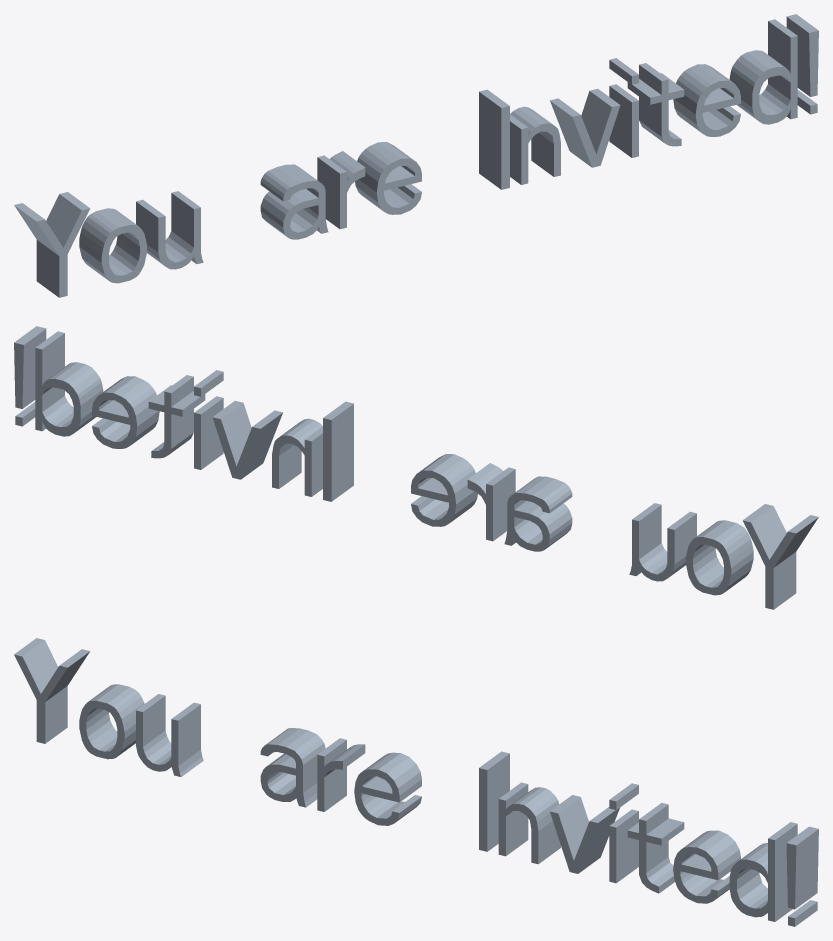
3 views of the same model, one above another, from view 1: azimuth 30°, elevation 25°; view 2: azimuth 150°, elevation 25°; view 3: azimuth 330°, elevation 25° (orthographic).
Visible parts, largest first — view 1: Object_3; view 2: Object_3; view 3: Object_3.
Part boxes in pixels (box(x1,y1,x2,y2)): Object_3: box(14, 14, 818, 297); Object_3: box(14, 326, 818, 609); Object_3: box(14, 638, 818, 926).
Size of the model in its own units: 25.4 by 2.54 by 1.27.
